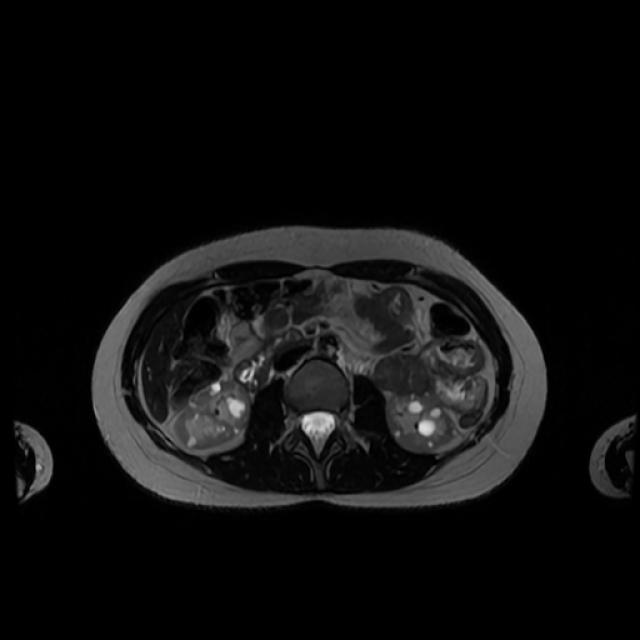sag: (171, 377, 251, 451)
sol: (385, 390, 457, 453)
